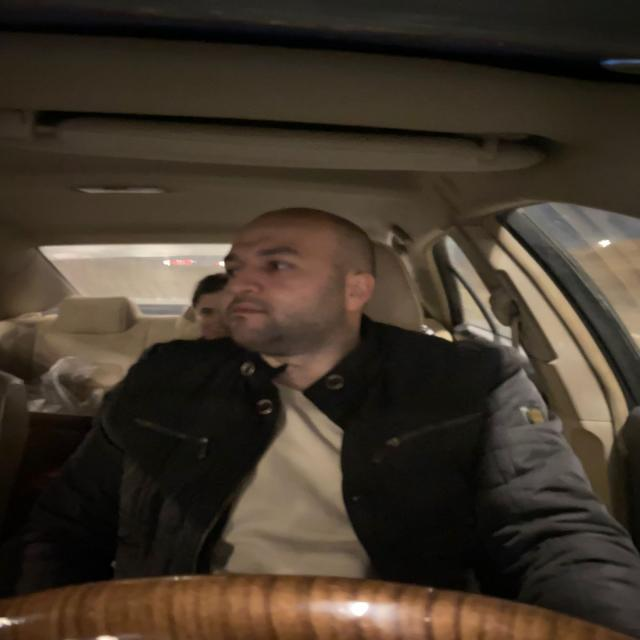person: (220, 197, 386, 371), (187, 269, 233, 344)
